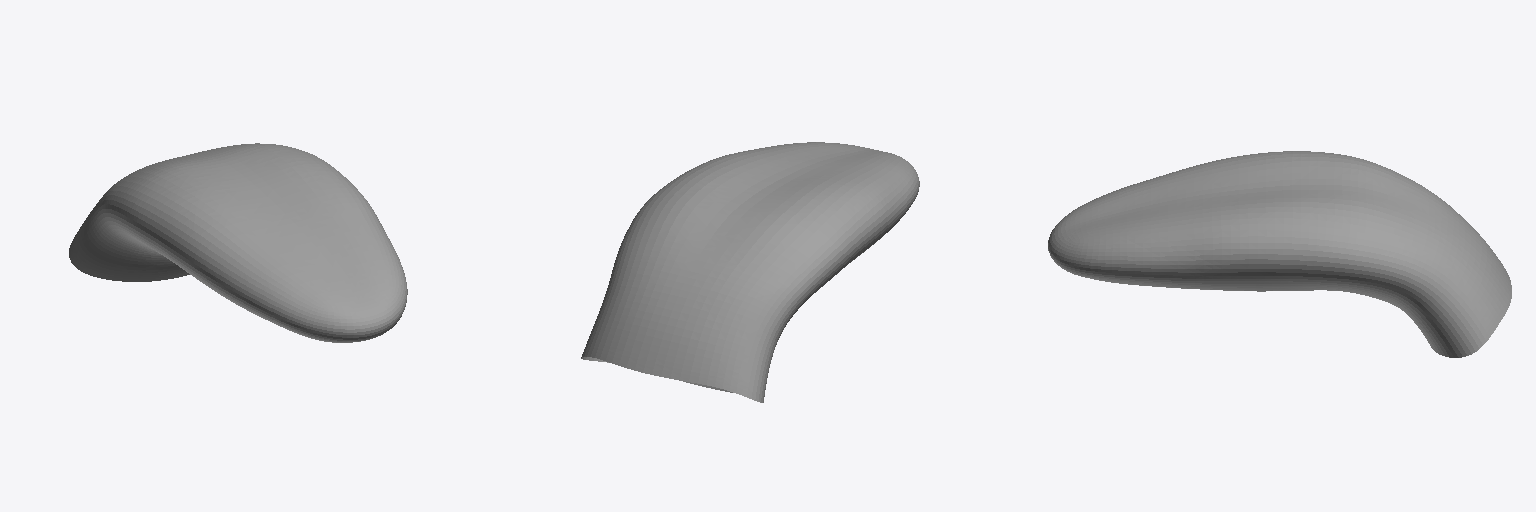
Rendered from tounge.obj.
3 renders of one model, left to right at view 1: azimuth 30°, elevation 25°; view 2: azimuth 150°, elevation 25°; view 3: azimuth 270°, elevation 25°, orthographic.
Parts seen in each view (by area): view 1: Group54562; view 2: Group54562; view 3: Group54562.
Boxes of the visible parts, box(x1,y1,x2,y2) form: Group54562: box(69, 143, 407, 342); Group54562: box(581, 142, 919, 402); Group54562: box(1048, 151, 1511, 357).
Bounding box in the file's own units: 0.2107 × 0.1536 × 0.4329.